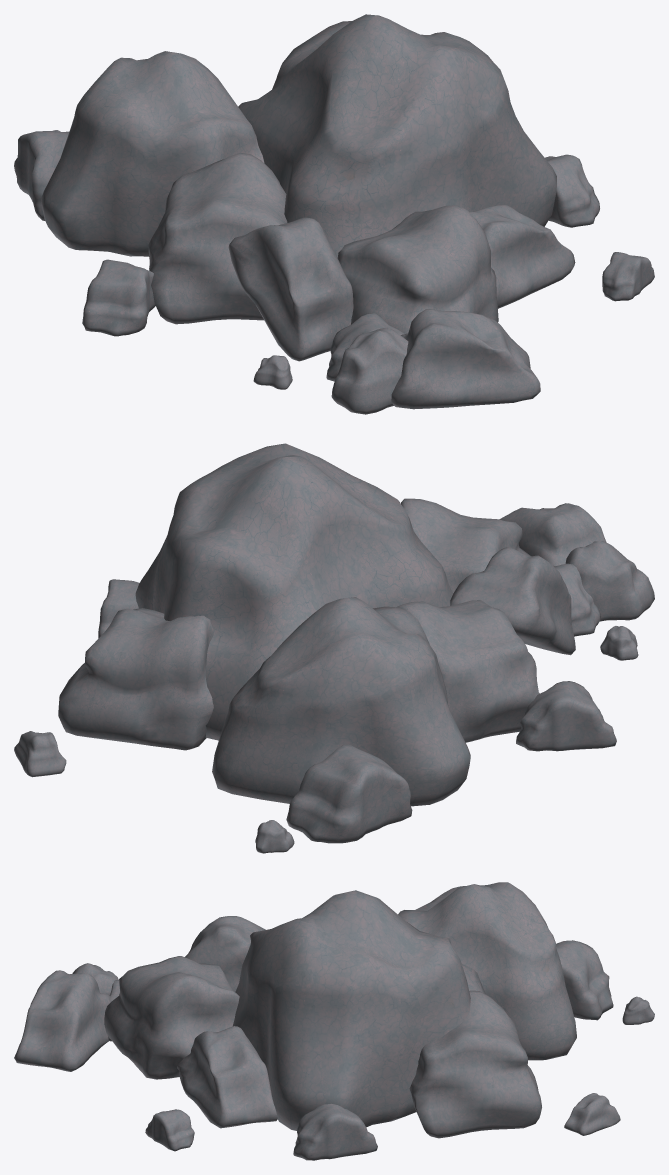
File: Rock_Pile_8.fbx
The picture shows the model from 3 angles, top to bottom: view 1: azimuth 30°, elevation 25°; view 2: azimuth 150°, elevation 25°; view 3: azimuth 270°, elevation 25°; orthographic projection. The views are drawn at different scales.
Visible parts, largest first — view 1: Rock_Pile_8; view 2: Rock_Pile_8; view 3: Rock_Pile_8.
Boxes of the visible parts, box(x1,y1,x2,y2) form: Rock_Pile_8: box(14, 14, 654, 414); Rock_Pile_8: box(14, 443, 654, 853); Rock_Pile_8: box(14, 882, 654, 1160).
Bounding box in the file's own units: 234 × 102 × 304.
